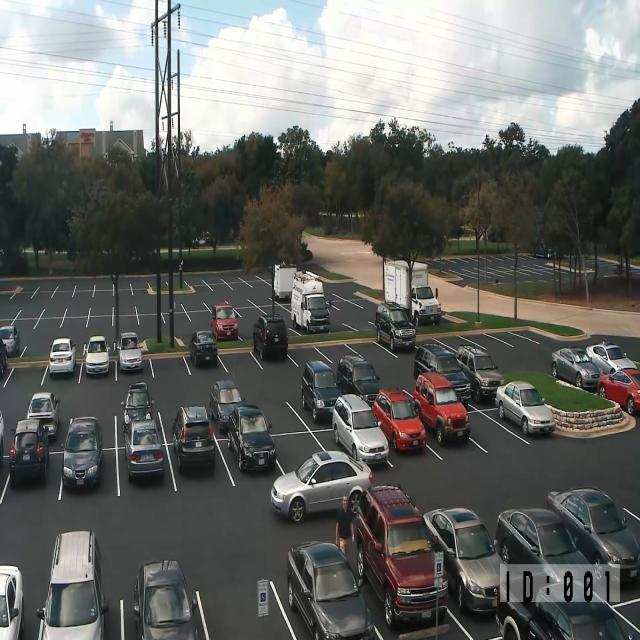car: (356, 483, 448, 629), (494, 507, 601, 605), (546, 486, 640, 583), (286, 540, 375, 639), (496, 578, 640, 639), (422, 506, 502, 615), (36, 530, 109, 639), (270, 450, 373, 522), (133, 559, 204, 639), (413, 371, 471, 446), (528, 599, 629, 640), (332, 393, 389, 465), (372, 387, 427, 452), (495, 380, 556, 436), (227, 404, 276, 472), (60, 416, 103, 490), (172, 405, 216, 472), (456, 344, 504, 402), (9, 418, 49, 484), (123, 417, 164, 480), (301, 360, 342, 422), (337, 354, 380, 407), (551, 346, 602, 390), (432, 352, 472, 407), (375, 301, 416, 351), (596, 368, 640, 414), (209, 379, 245, 433), (0, 564, 24, 639), (120, 381, 154, 433), (586, 341, 637, 375), (252, 314, 288, 361), (413, 342, 456, 381), (26, 391, 60, 440), (411, 284, 441, 326), (83, 335, 110, 376), (116, 331, 143, 372), (189, 329, 218, 367), (210, 302, 238, 341), (49, 337, 76, 376), (0, 324, 20, 356), (534, 243, 555, 258), (0, 337, 7, 377), (0, 409, 4, 467)
